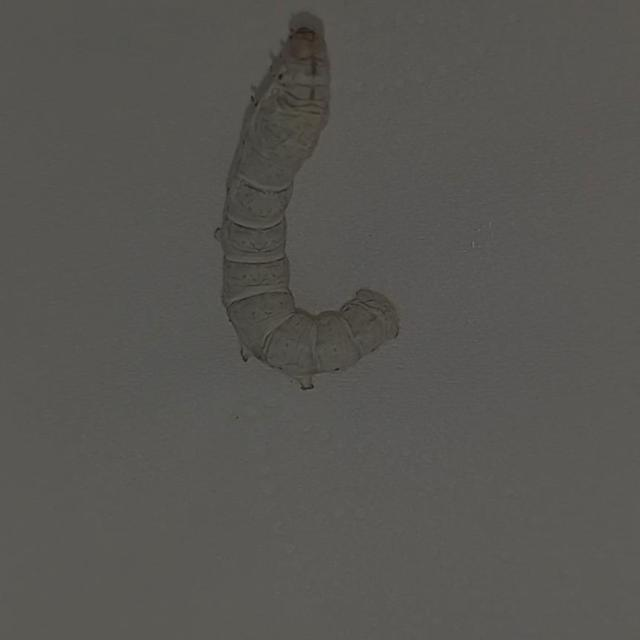Healthy: (150, 11, 471, 407)
